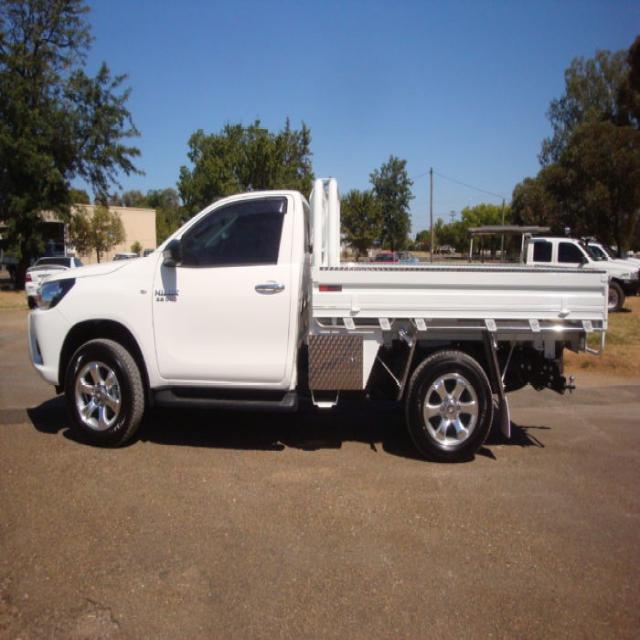light_vehicle: (18, 166, 611, 474)
